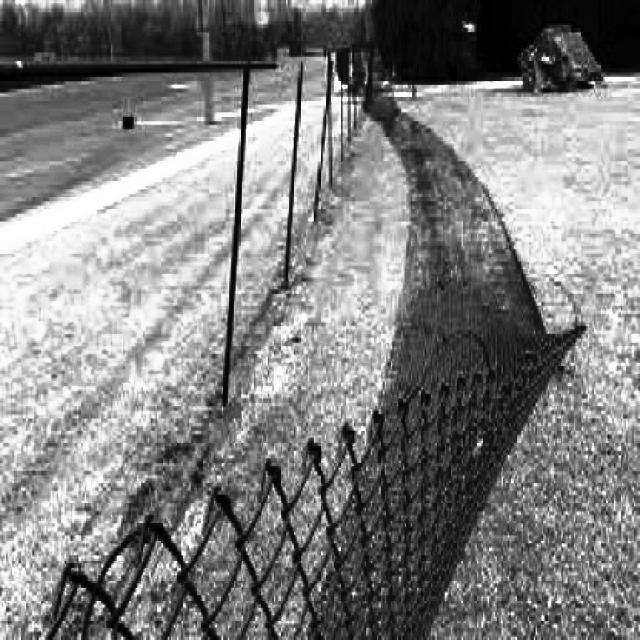anomaly-fence: (27, 20, 587, 640)
